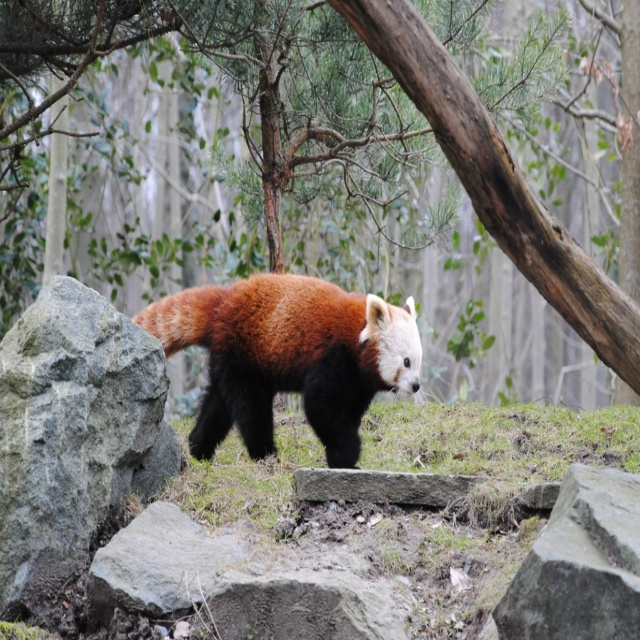Red panda: (131, 269, 423, 470)
